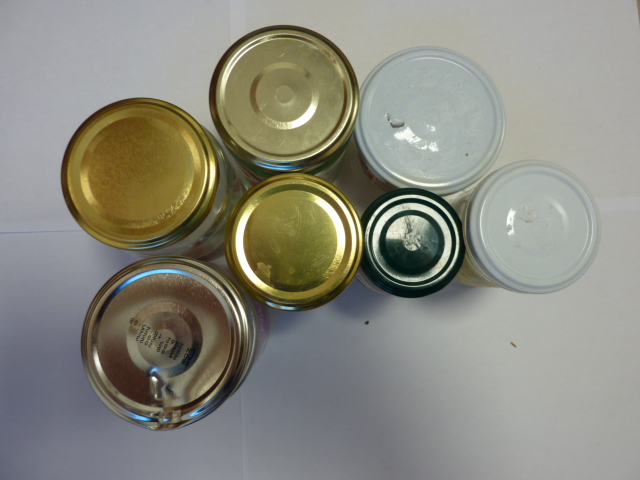damaged: (75, 257, 252, 433), (352, 43, 506, 194)
intact: (58, 97, 218, 250), (206, 28, 359, 169), (470, 160, 601, 294)
